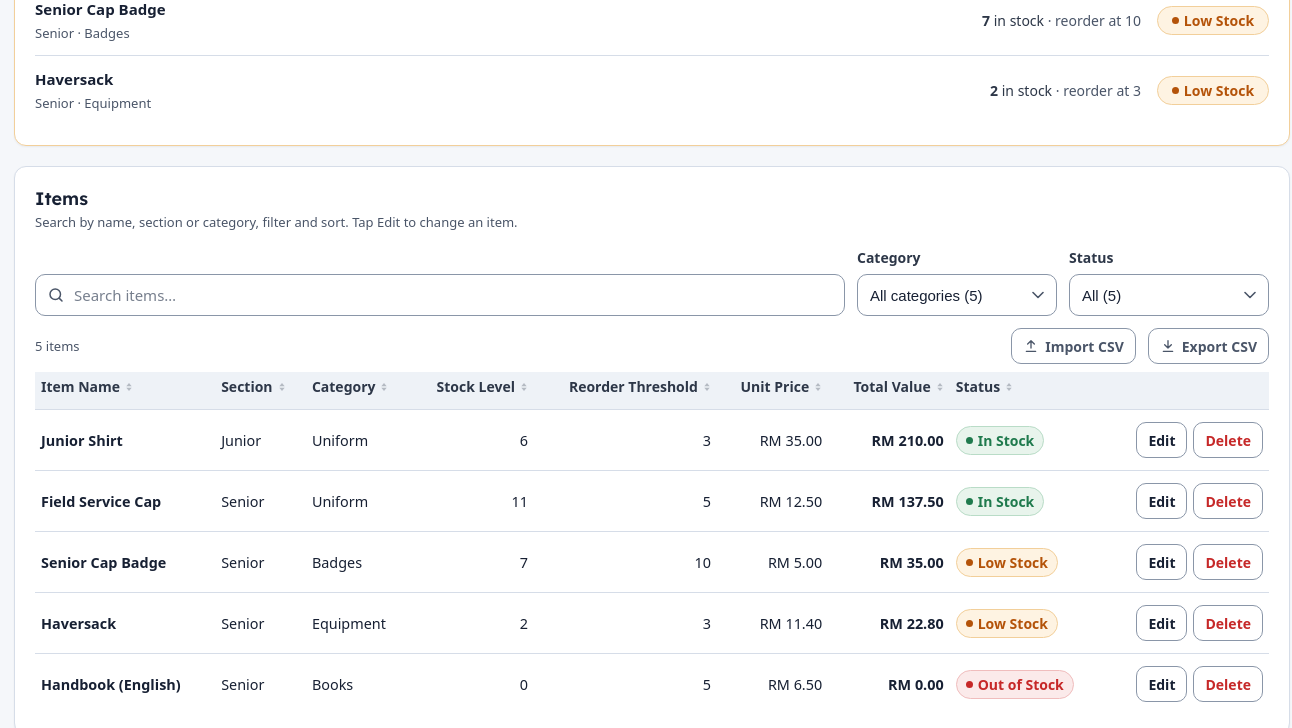
Test: the page with a database › shows a message when the database refuses a change
(page scrolled)
What coordinates should you click on to do the following:
click the button with aria-label "Edit Haversack"
I would click on:
 (1162, 623)
Its box is [1136,605,1188,641].
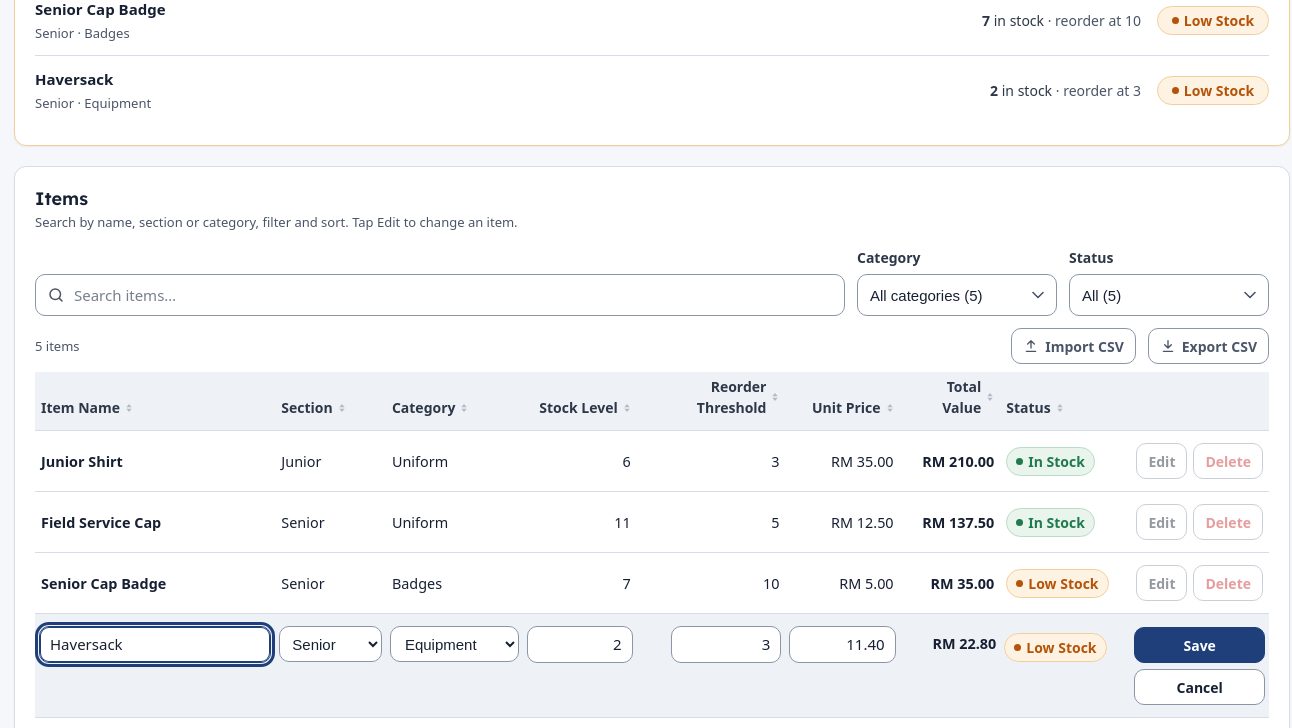
What coordinates should you click on to do the following:
click the button "Save"
I would click on:
 (1200, 645)
Its box is [1134,627,1265,663].
(page scrolled)
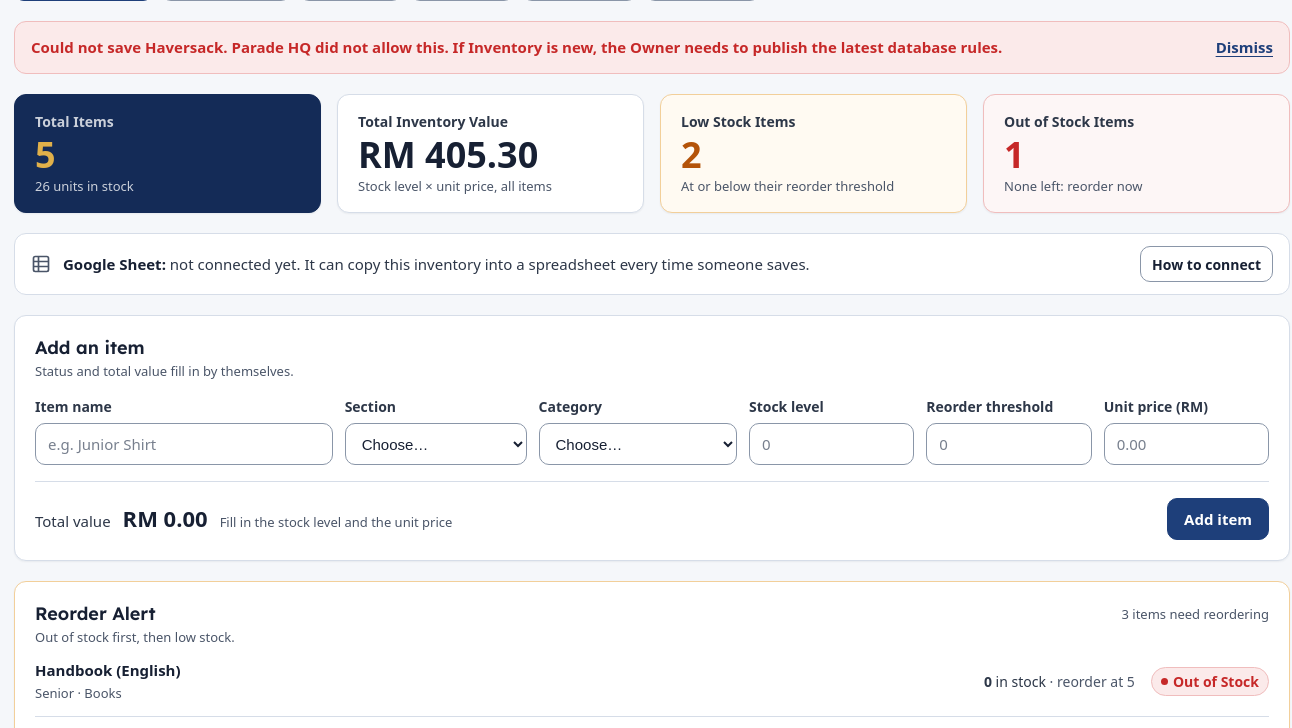
Expected: the message shows "Could not save Haversack. Parade HQ did not allow this.", [31,37,1002,57]
What coordinates should you click on to do the following:
click the button "Dismiss"
I would click on:
 (1244, 47)
Its box is [1216,34,1273,60].
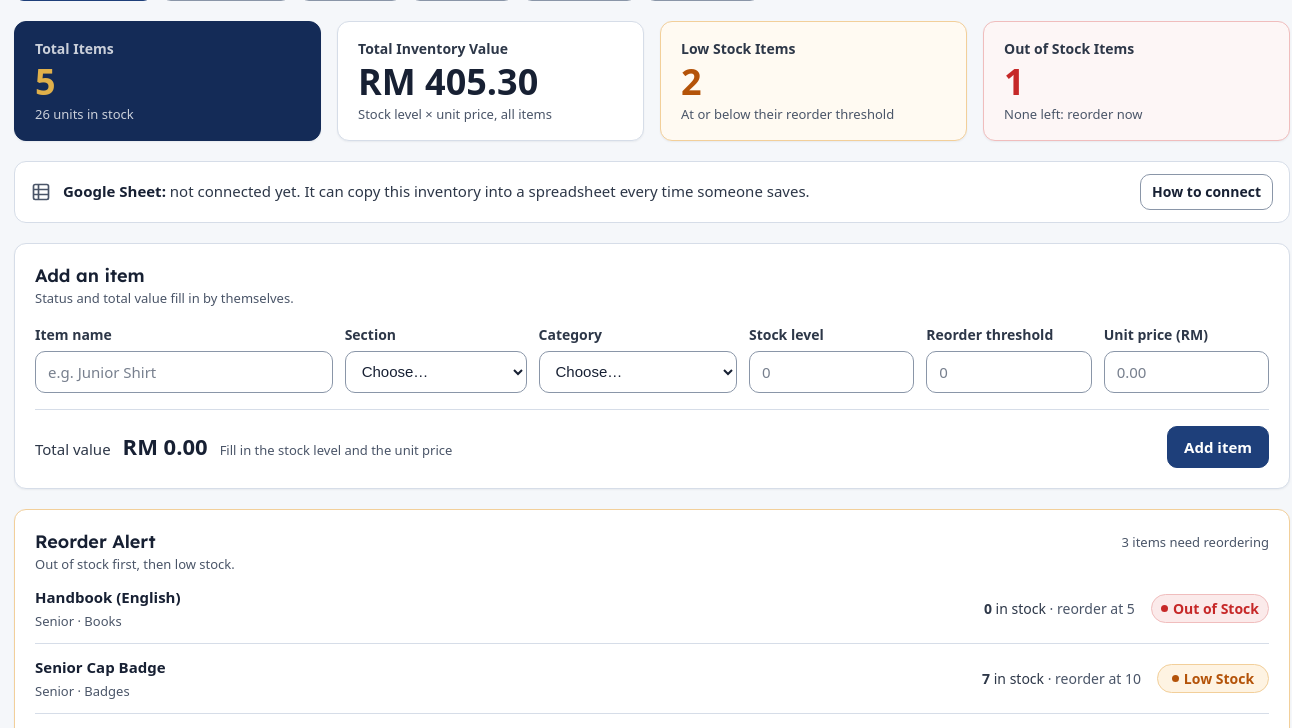
Expected: the message is gone
